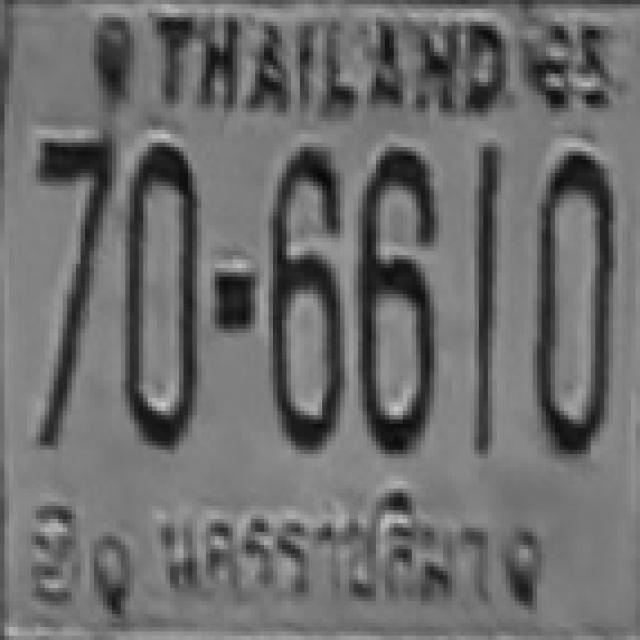1: (472, 145, 499, 335), (470, 143, 497, 320)
7: (36, 134, 112, 298)
NakhonRatchasima: (147, 485, 507, 623)
